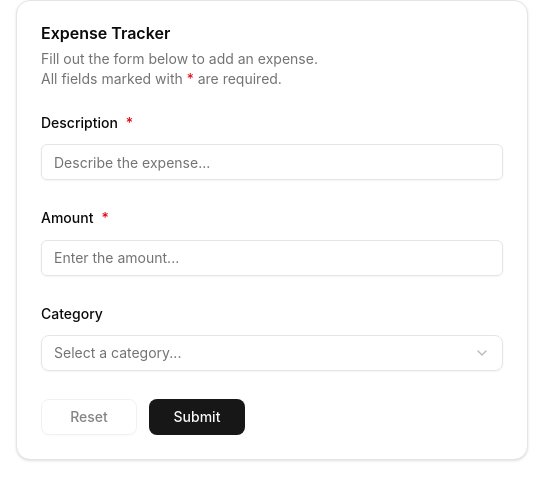
it: ExpenseTrackerForm › form display › clears fields when Reset button is clicked
In the number field labelled "Amount *": (272, 258) top-left (41, 240), bottom-right (503, 276), type "100"
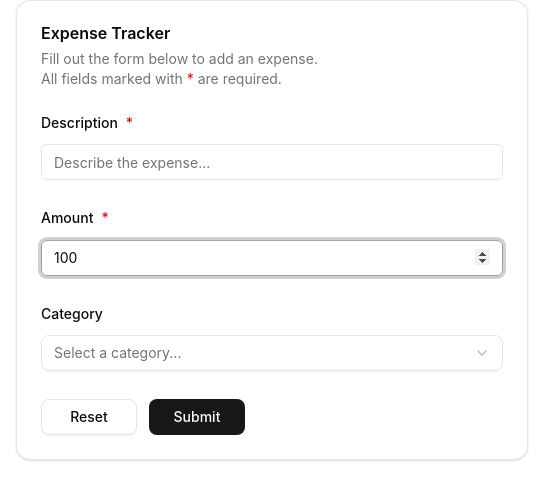
In the field labelled "Description *": (272, 162) top-left (41, 144), bottom-right (503, 180), type "Some description text here"
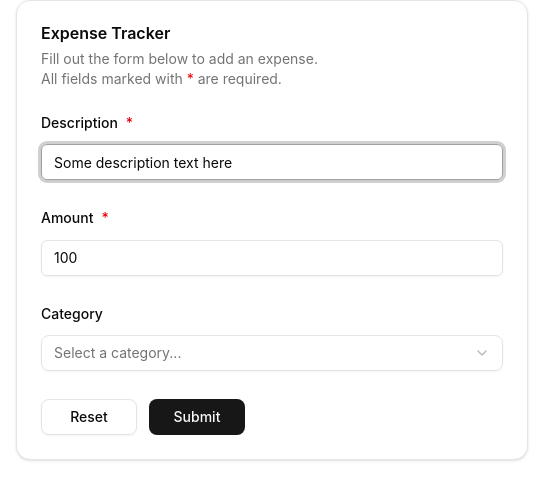
Click the dropdown with test id "select-trigger-category": (118, 352) top-left (41, 335), bottom-right (503, 371)
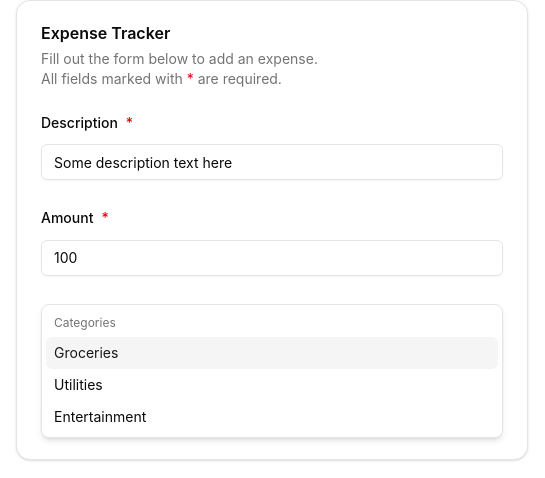
Click the option "Groceries": (86, 352) top-left (46, 337), bottom-right (498, 369)
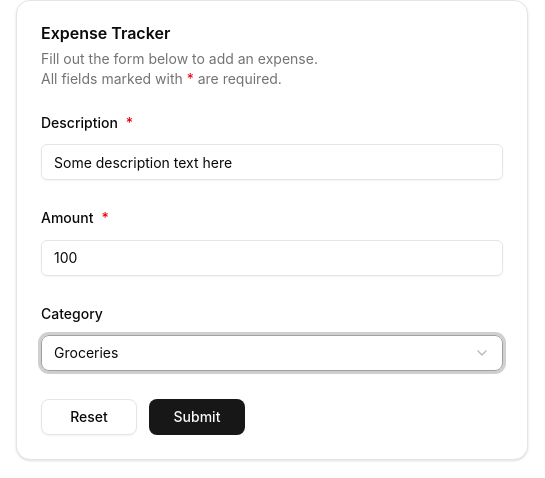
Now the list is gone
Click the button "Reset": (89, 417) top-left (41, 399), bottom-right (137, 435)
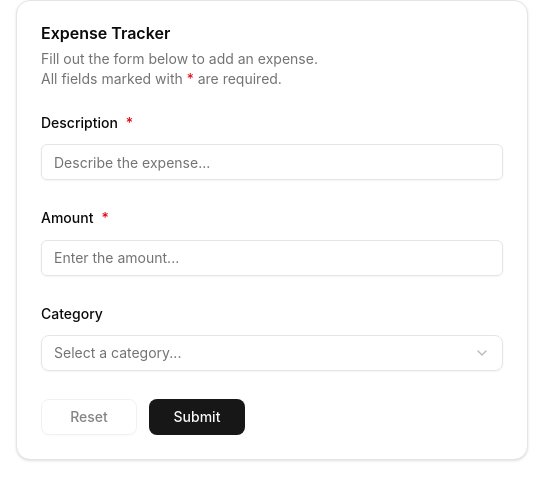
Now the field labelled "Description *" is empty, box top-left (41, 144), bottom-right (503, 180)
Now the number field labelled "Amount *" is not empty, box top-left (41, 240), bottom-right (503, 276)
Now the text "Select a category..." is shown, box top-left (54, 343), bottom-right (181, 363)
